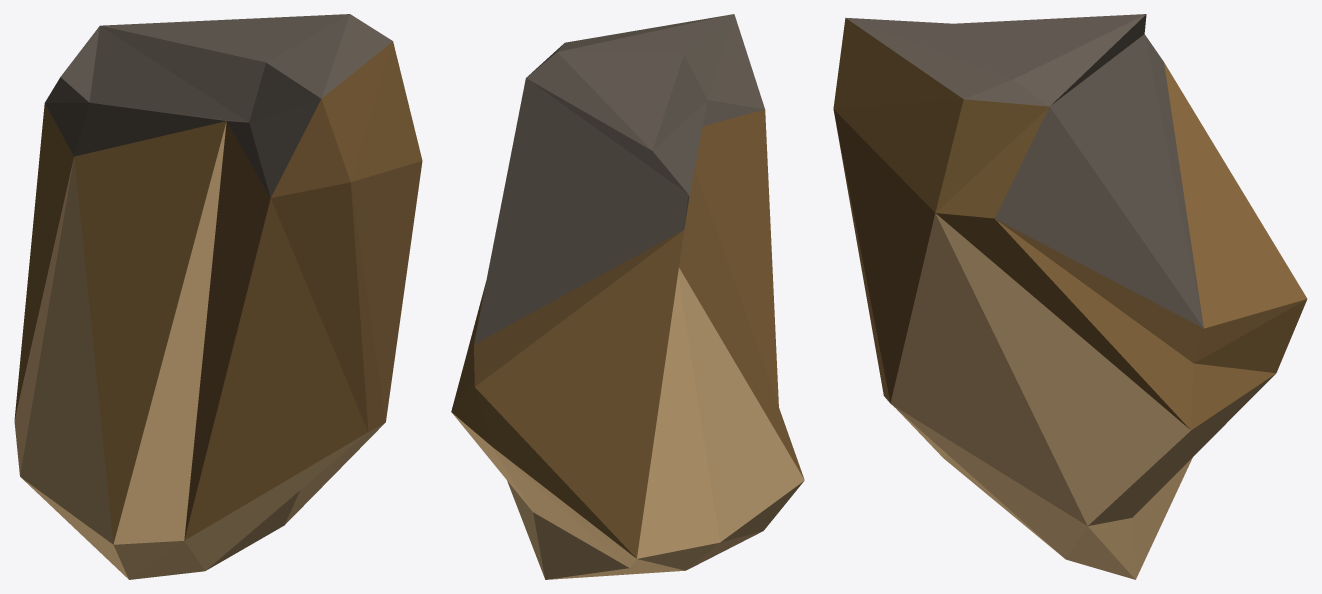
The model's file is rockSmall.fbx.
The picture shows the model from 3 angles, left to right: view 1: azimuth 30°, elevation 25°; view 2: azimuth 150°, elevation 25°; view 3: azimuth 270°, elevation 25°; orthographic projection. The views are drawn at different scales.
Parts seen in each view (by area): view 1: rockShort; view 2: rockShort; view 3: rockShort.
Part boxes in pixels (x1,y1,x2,y2): rockShort: (14, 14, 422, 579); rockShort: (451, 14, 804, 579); rockShort: (833, 14, 1307, 579).
Size of the model in its own units: 709 by 1220 by 986.
